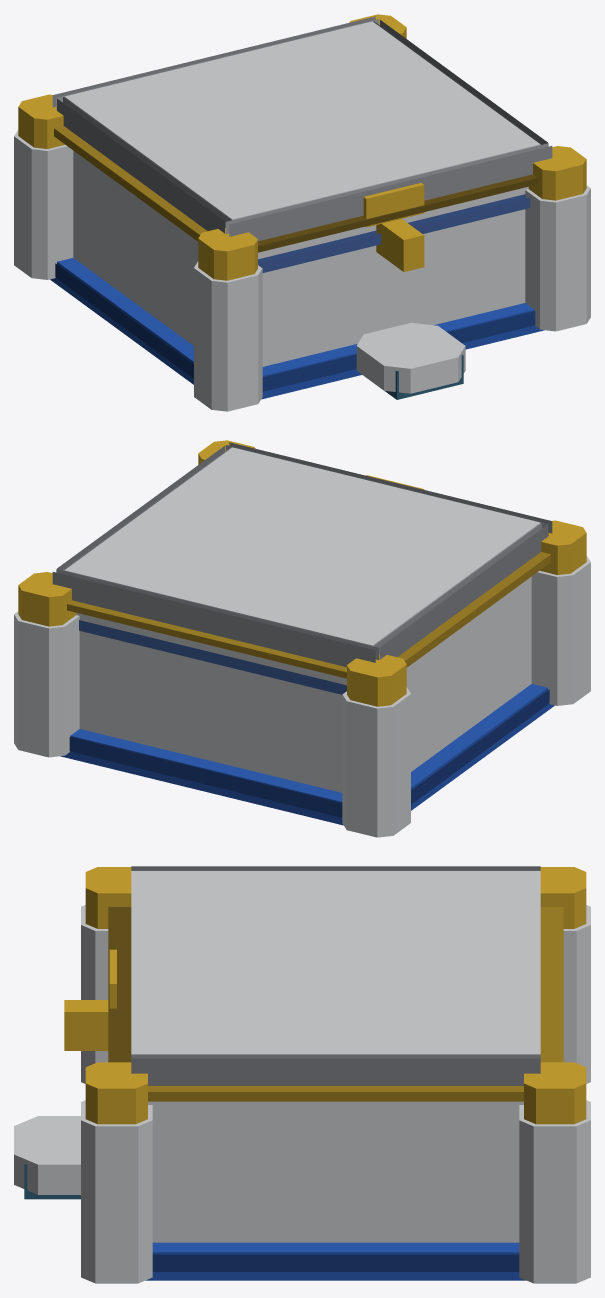
Rendered from RoyalDuckSil.fbx.
3 renders of one model, top to bottom at view 1: azimuth 30°, elevation 25°; view 2: azimuth 150°, elevation 25°; view 3: azimuth 270°, elevation 25°, orthographic. The views are drawn at different scales.
Visible parts, largest first — view 1: RY_S_All; view 2: RY_S_All; view 3: RY_S_All.
Boxes of the visible parts, x1,y1,x2,y2 form: RY_S_All: (14,14,590,411); RY_S_All: (14,440,590,837); RY_S_All: (14,866,590,1283).
Size of the model in its own units: 44.64 by 20 by 48.24.
